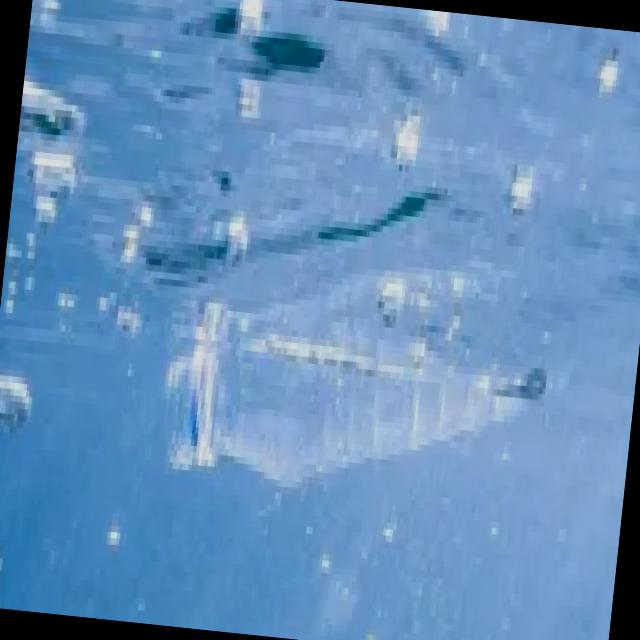Recycle: (144, 212, 547, 512)
